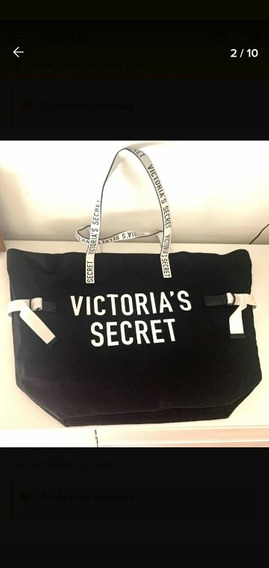cartera: (7, 145, 264, 428)
